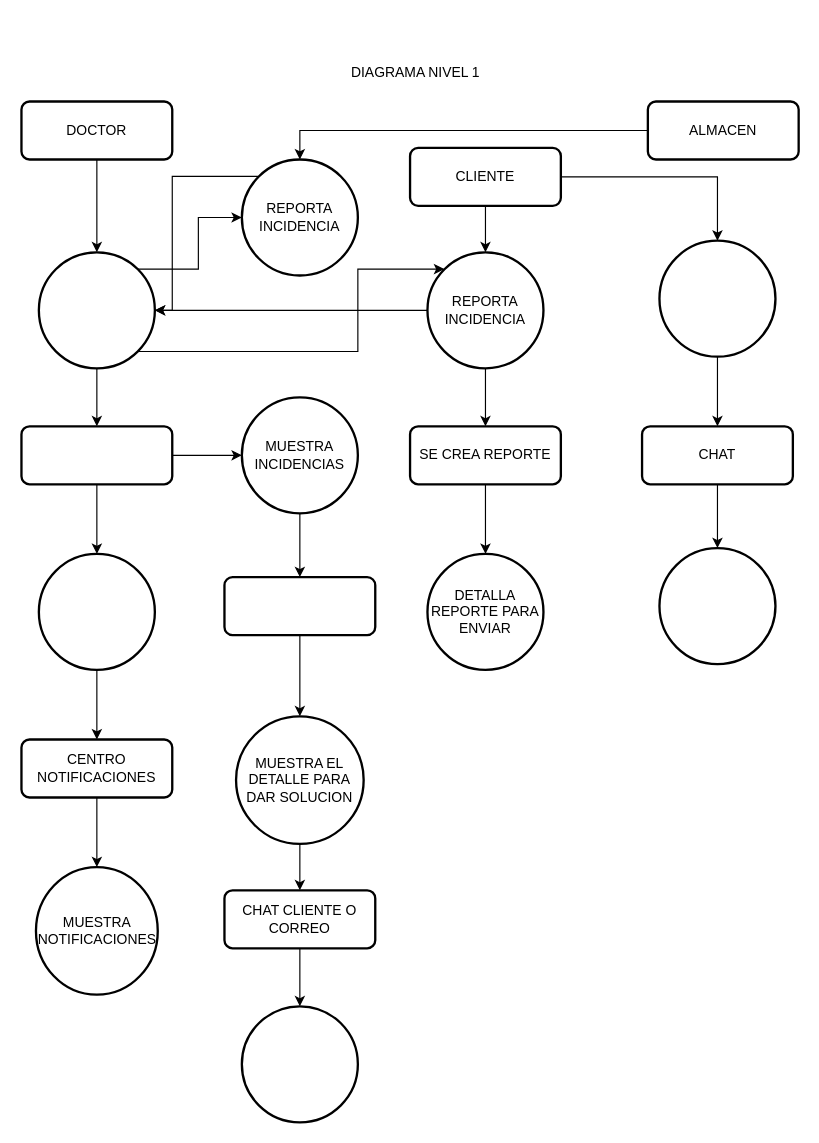
Image size: 819x1143. Some labels were removed from this diagram. Each missing label, with the box of its shape:
DASHBOARD: (20, 425, 173, 485)
DETALLA INCIDENCIA: (223, 575, 376, 636)
LA CONSULTA SOLUCION: (658, 239, 776, 357)
MUESTRA UN CHAT PARA DAR SOLUCION: (658, 546, 776, 665)
NOTIFICA DOCUMENTO: (37, 552, 155, 670)
RESPUESTA SOLUCION: (37, 251, 155, 369)
SE MANDA SOLUCION AL CLIENTE: (240, 1005, 358, 1123)
